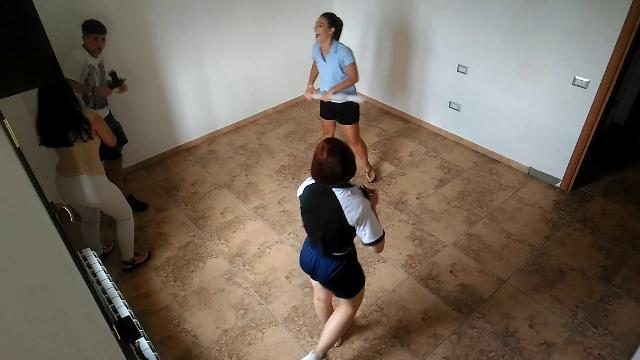non-violence: (278, 2, 400, 360)
violence: (31, 14, 160, 276)
weapon: (106, 71, 128, 92)
